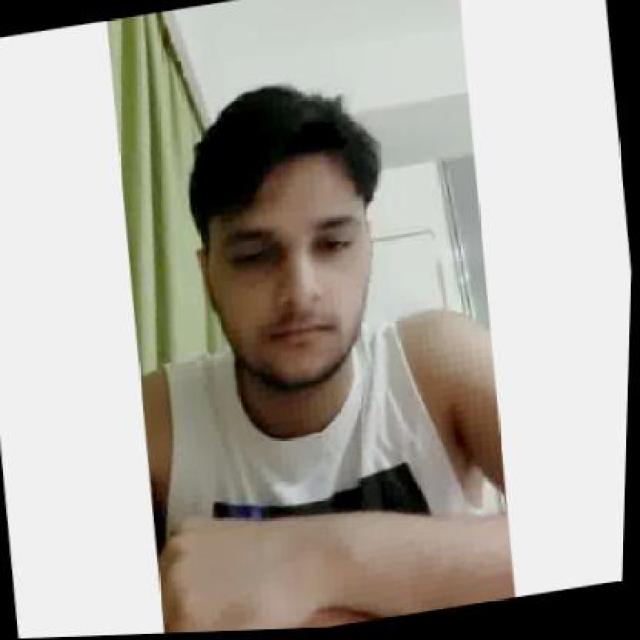inattentif: (174, 70, 397, 408)
